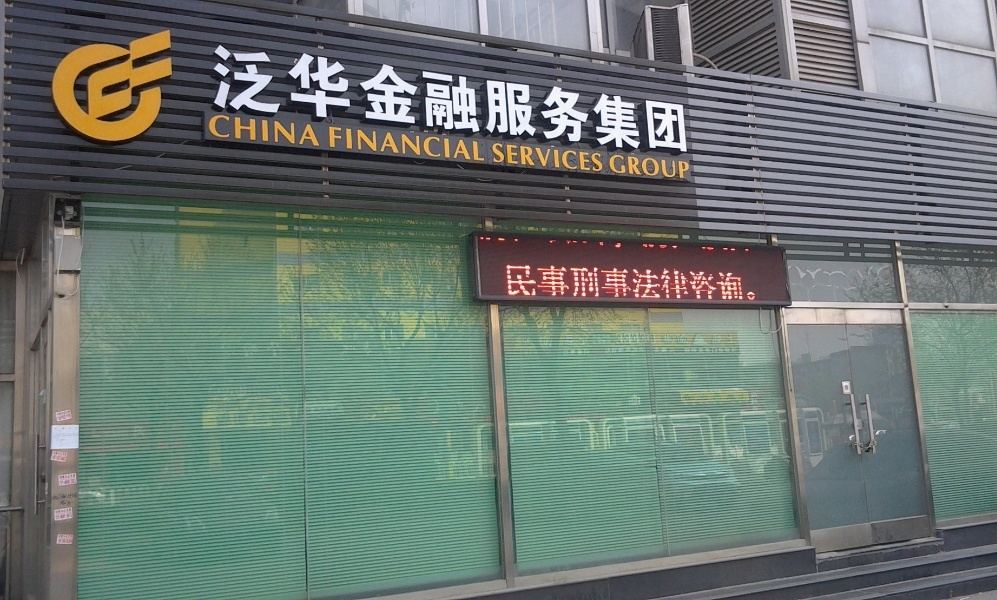text: (209, 44, 224, 155), (225, 44, 240, 155), (241, 44, 256, 155), (257, 44, 272, 155), (273, 44, 288, 155), (289, 44, 304, 155), (305, 44, 320, 155), (321, 44, 336, 155), (337, 44, 352, 155), (353, 44, 368, 155), (369, 44, 384, 155), (385, 44, 400, 155), (401, 44, 416, 155), (417, 44, 432, 155), (433, 44, 448, 155), (449, 44, 464, 155), (465, 44, 480, 155), (481, 44, 496, 155), (497, 44, 512, 155), (513, 44, 528, 155), (529, 44, 544, 155), (545, 44, 560, 155), (561, 44, 576, 155), (577, 44, 592, 155), (593, 44, 608, 155), (609, 44, 624, 155), (625, 44, 640, 155), (641, 44, 656, 155), (657, 44, 672, 155), (673, 44, 688, 155), (513, 261, 528, 302), (529, 261, 544, 302), (545, 261, 560, 302), (561, 261, 576, 302), (577, 261, 592, 302), (593, 261, 608, 302), (609, 261, 624, 302), (625, 261, 640, 302), (641, 261, 656, 302), (657, 261, 672, 302), (673, 261, 688, 302), (689, 261, 704, 302), (705, 261, 720, 302), (721, 261, 736, 302), (737, 261, 752, 302), (337, 125, 352, 164), (353, 125, 368, 164), (369, 125, 384, 164), (385, 125, 400, 164), (401, 125, 416, 164), (417, 125, 432, 164), (433, 125, 448, 164), (449, 125, 464, 164), (465, 125, 480, 164), (209, 113, 224, 149), (225, 113, 240, 149), (241, 113, 256, 149), (257, 113, 272, 149), (273, 113, 288, 149), (289, 113, 304, 149), (305, 113, 320, 149), (497, 142, 512, 174), (513, 142, 528, 174), (529, 142, 544, 174), (545, 142, 560, 174), (561, 142, 576, 174), (577, 142, 592, 174), (625, 155, 640, 180), (641, 155, 656, 180), (657, 155, 672, 180), (673, 155, 688, 180), (503, 261, 512, 302), (593, 142, 604, 174), (611, 155, 624, 180), (329, 125, 336, 164), (97, 424, 112, 441), (113, 424, 128, 441), (129, 424, 144, 441), (225, 410, 240, 426), (241, 410, 256, 426), (257, 410, 272, 426), (273, 410, 288, 426), (689, 44, 691, 155), (481, 125, 486, 164), (529, 335, 544, 347), (545, 335, 560, 347), (561, 335, 576, 347), (213, 410, 224, 426), (641, 333, 657, 344), (577, 335, 591, 347), (673, 333, 688, 344), (625, 333, 640, 344), (753, 261, 757, 302), (721, 334, 736, 344), (88, 424, 96, 441), (660, 333, 672, 344), (492, 142, 496, 174), (721, 393, 737, 401), (689, 393, 704, 401), (705, 393, 720, 401), (753, 392, 759, 411), (609, 347, 624, 354), (625, 347, 640, 354), (657, 346, 672, 353), (710, 334, 720, 344), (65, 493, 78, 500), (689, 347, 704, 353), (705, 347, 720, 353), (721, 347, 736, 353), (616, 333, 624, 344), (65, 479, 77, 486), (52, 493, 64, 500), (562, 349, 576, 355), (577, 349, 591, 355), (689, 155, 692, 180), (321, 113, 323, 149), (65, 474, 76, 480), (52, 456, 64, 461), (65, 500, 75, 506), (523, 335, 528, 347), (56, 513, 64, 520), (65, 434, 78, 438), (54, 451, 64, 456), (57, 410, 64, 417), (57, 414, 64, 421), (65, 414, 72, 421), (65, 513, 72, 520), (65, 410, 71, 417), (54, 434, 64, 438), (56, 509, 64, 514), (65, 427, 78, 430), (750, 392, 752, 411), (59, 479, 64, 486), (145, 424, 147, 441), (289, 410, 291, 426), (684, 393, 688, 401), (59, 474, 64, 480), (65, 509, 71, 514), (683, 347, 688, 353), (65, 535, 72, 539), (65, 539, 72, 543), (55, 427, 64, 430), (65, 433, 78, 435), (58, 539, 64, 543), (844, 385, 848, 391), (641, 347, 644, 354), (673, 346, 676, 353), (59, 535, 64, 539), (61, 500, 64, 506), (56, 433, 64, 435), (56, 439, 64, 441), (606, 347, 608, 354), (654, 346, 656, 353), (689, 333, 690, 344), (54, 438, 64, 439), (65, 451, 67, 456), (65, 439, 68, 441), (737, 347, 738, 353)
